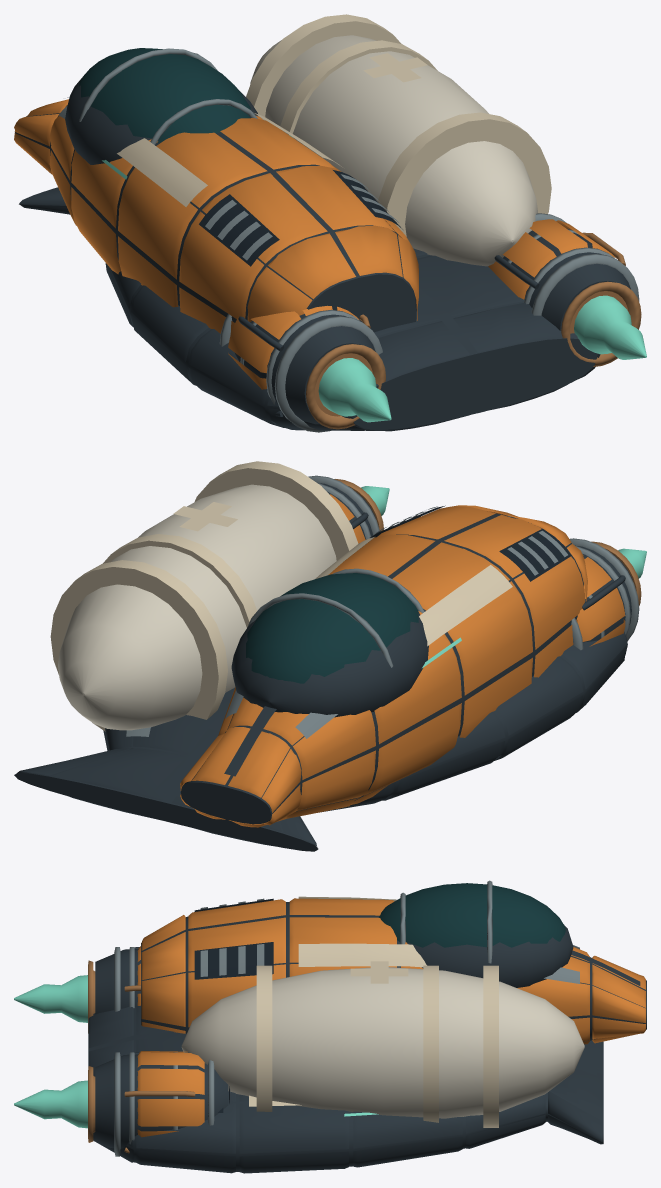
File: emergency.glb
3 renders of one model, top to bottom at view 1: azimuth 30°, elevation 25°; view 2: azimuth 150°, elevation 25°; view 3: azimuth 270°, elevation 25°, orthographic. The views are drawn at different scales.
Visible parts, largest first — view 1: emergency; view 2: emergency; view 3: emergency.
Boxes of the visible parts, bbox=[...] form: emergency: bbox=[14, 14, 646, 432]; emergency: bbox=[14, 461, 646, 851]; emergency: bbox=[14, 880, 646, 1173].
Bounding box in the file's own units: 3.24 × 1.79 × 5.28.
